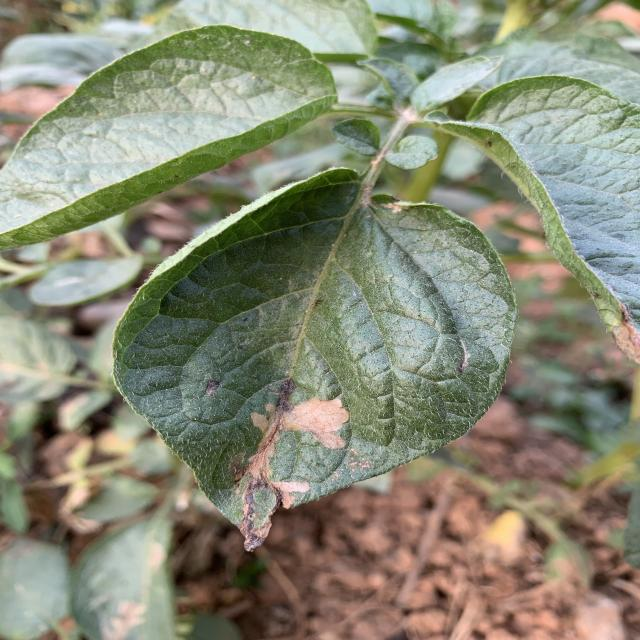lateblight: (230, 378, 350, 550)
